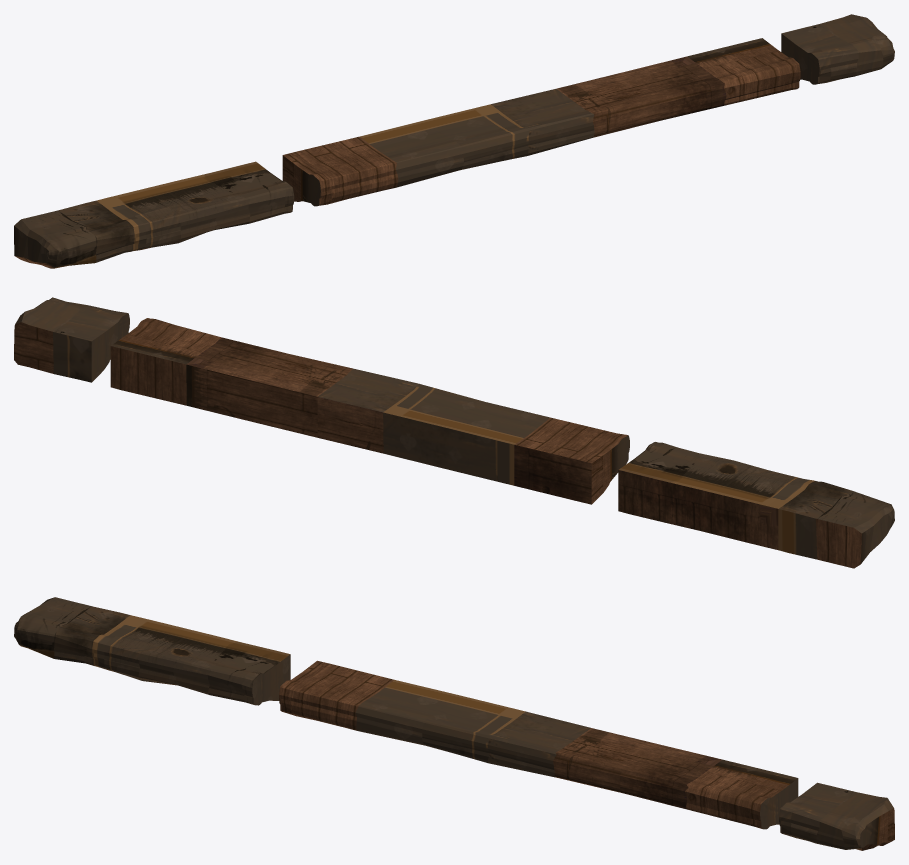
Rendered from edge earth .fbx.
The picture shows the model from 3 angles, top to bottom: view 1: azimuth 30°, elevation 25°; view 2: azimuth 150°, elevation 25°; view 3: azimuth 330°, elevation 25°; orthographic projection.
Visible parts, largest first — view 1: LP++; view 2: LP++; view 3: LP++.
Boxes of the visible parts, <box> form: LP++: <box>14,14,894,268</box>; LP++: <box>14,297,894,568</box>; LP++: <box>14,597,894,850</box>.
Size of the model in its own units: 2660 by 138 by 212.
